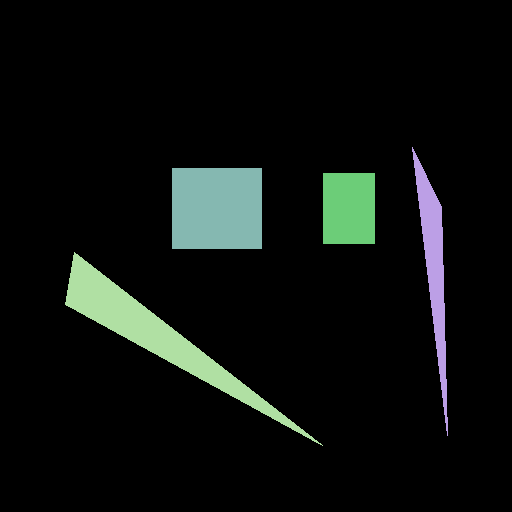rectangle: (172, 168, 261, 248), (323, 173, 374, 243)
triangle: (66, 252, 322, 445), (412, 147, 447, 435)
